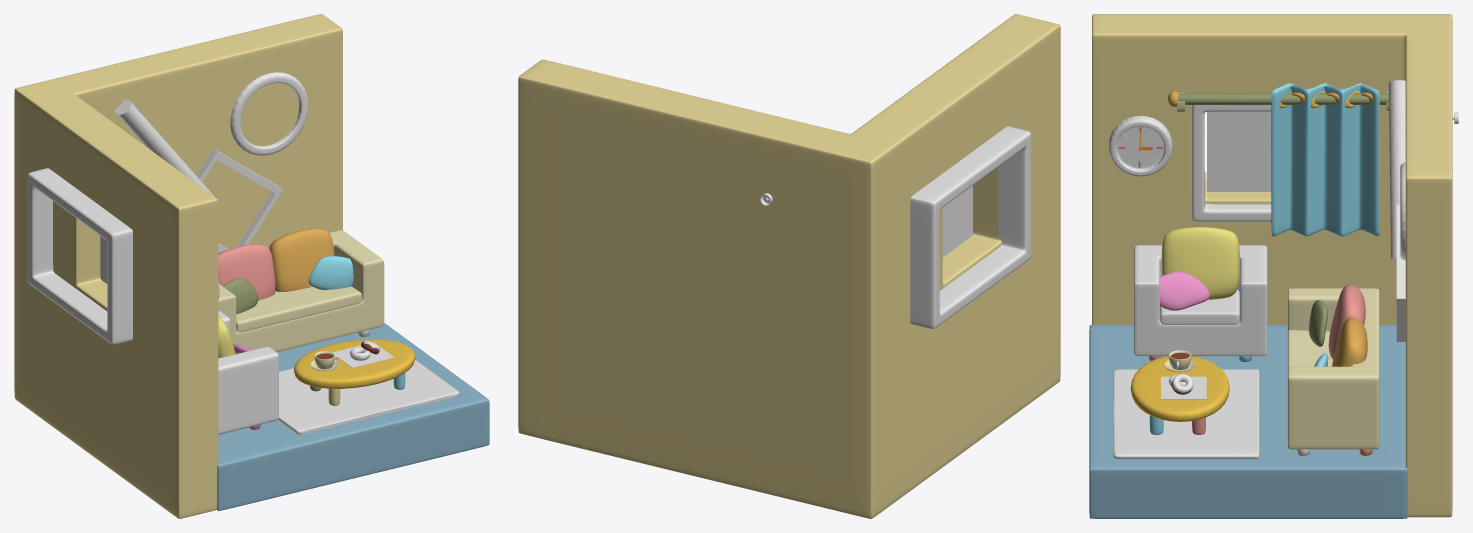
File: ExportedBlenderFBXFile.fbx
3 renders of one model, left to right at view 1: azimuth 30°, elevation 25°; view 2: azimuth 150°, elevation 25°; view 3: azimuth 270°, elevation 25°, orthographic. The views are drawn at different scales.
Visible parts, largest first — view 1: walls, floor, window, couch, rug, halfcouch, coffeetable, backcushion2, clock.001, backcushion1, Cylinder, Cube (+3 smaller); view 2: walls, window; view 3: walls, floor, curtain, couch, halfcouch, rug, window, backcushion2.001, coffeetable, clock, Cylinder, curtainrod (+8 smaller).
Part boxes in pixels (x1,y1,x2,y2): walls: [14, 14, 342, 518]; floor: [217, 323, 489, 510]; window: [27, 168, 132, 344]; couch: [218, 230, 384, 352]; rug: [278, 360, 459, 434]; halfcouch: [218, 310, 278, 434]; coffeetable: [294, 339, 415, 388]; backcushion2: [269, 228, 334, 291]; clock.001: [230, 72, 308, 155]; backcushion1: [218, 244, 275, 300]; Cylinder: [115, 99, 214, 196]; Cube: [196, 148, 283, 252]; walls: [518, 14, 1060, 518]; window: [910, 126, 1031, 328]; walls: [1092, 14, 1452, 517]; floor: [1089, 325, 1407, 518]; curtain: [1271, 83, 1379, 236]; couch: [1287, 288, 1379, 449]; halfcouch: [1133, 245, 1267, 356]; rug: [1113, 369, 1259, 458]; window: [1192, 105, 1271, 221]; backcushion2.001: [1161, 227, 1239, 299]; coffeetable: [1130, 356, 1229, 421]; clock: [1108, 115, 1172, 176]; Cylinder: [1388, 80, 1405, 261]; curtainrod: [1178, 93, 1388, 104].
Size of what is drawn, in the model's own units: 10.01 by 9.02 by 8.85.
